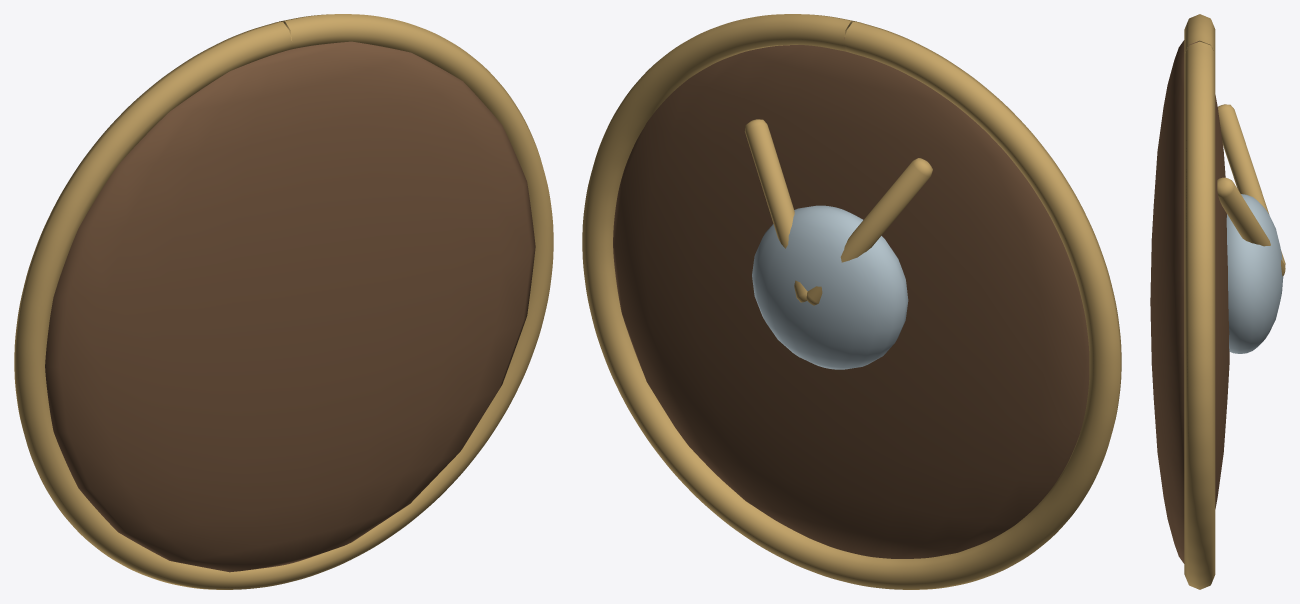
Rendered from oak_shield.glb.
The picture shows the model from 3 angles, left to right: view 1: azimuth 30°, elevation 25°; view 2: azimuth 150°, elevation 25°; view 3: azimuth 270°, elevation 25°; orthographic projection. The views are drawn at different scales.
Visible parts, largest first — view 1: Oak shield, Brass rim; view 2: Oak shield, Brass rim, Steel boss, Emblem ray, Emblem ray.001; view 3: Brass rim, Oak shield, Steel boss, Emblem ray, Emblem ray.001.
Part boxes in pixels (bbox=[...]): Oak shield: bbox=[45, 41, 535, 572]; Brass rim: bbox=[14, 14, 553, 589]; Oak shield: bbox=[613, 37, 1089, 558]; Brass rim: bbox=[582, 14, 1121, 589]; Steel boss: bbox=[752, 205, 908, 369]; Emblem ray: bbox=[806, 158, 932, 305]; Emblem ray.001: bbox=[745, 119, 807, 302]; Brass rim: bbox=[1184, 14, 1215, 589]; Oak shield: bbox=[1150, 40, 1229, 563]; Steel boss: bbox=[1226, 194, 1283, 353]; Emblem ray: bbox=[1217, 104, 1285, 265]; Emblem ray.001: bbox=[1217, 177, 1285, 276].
Size of the model in its own units: 0.93 by 0.9299 by 0.2183.
